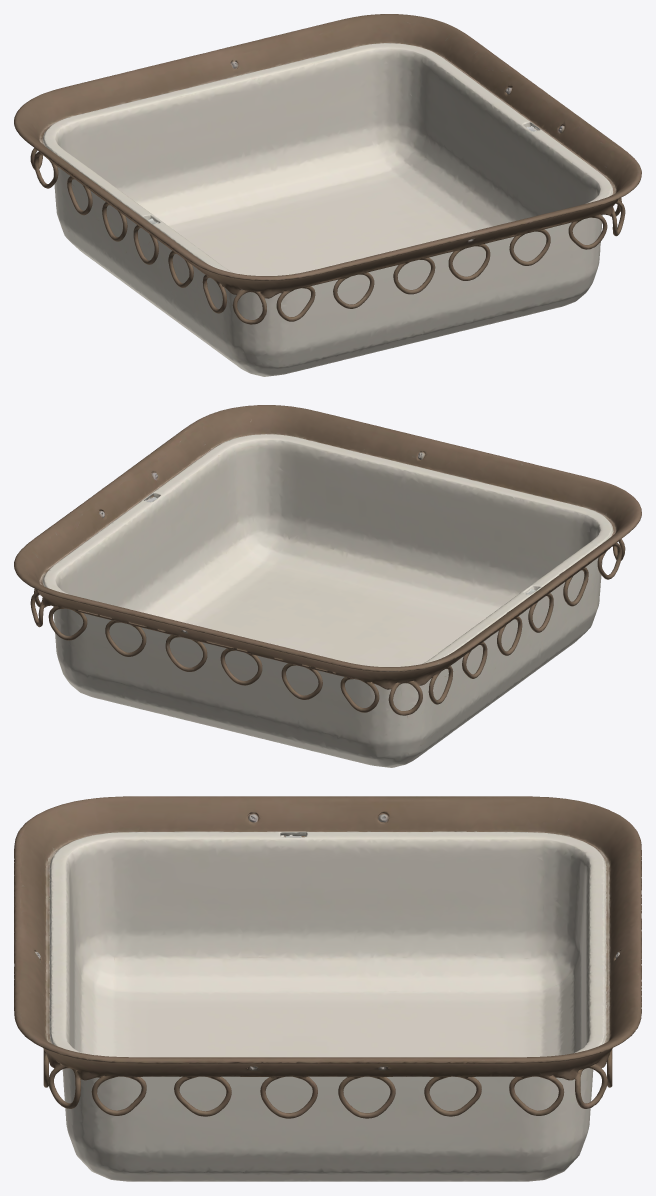
File: Miscellaneous [qaog-U].glb
3 views of the same model, one above another, from view 1: azimuth 30°, elevation 25°; view 2: azimuth 150°, elevation 25°; view 3: azimuth 270°, elevation 25° (orthographic). The views are drawn at different scales.
Parts seen in each view (by area): view 1: world; view 2: world; view 3: world.
Boxes of the visible parts, box(x1,y1,x2,y2) form: world: box(14, 14, 641, 376); world: box(14, 405, 641, 767); world: box(14, 796, 641, 1181).
Size of the model in its own units: 1 by 0.2895 by 1.
1 material, 1 textured.
